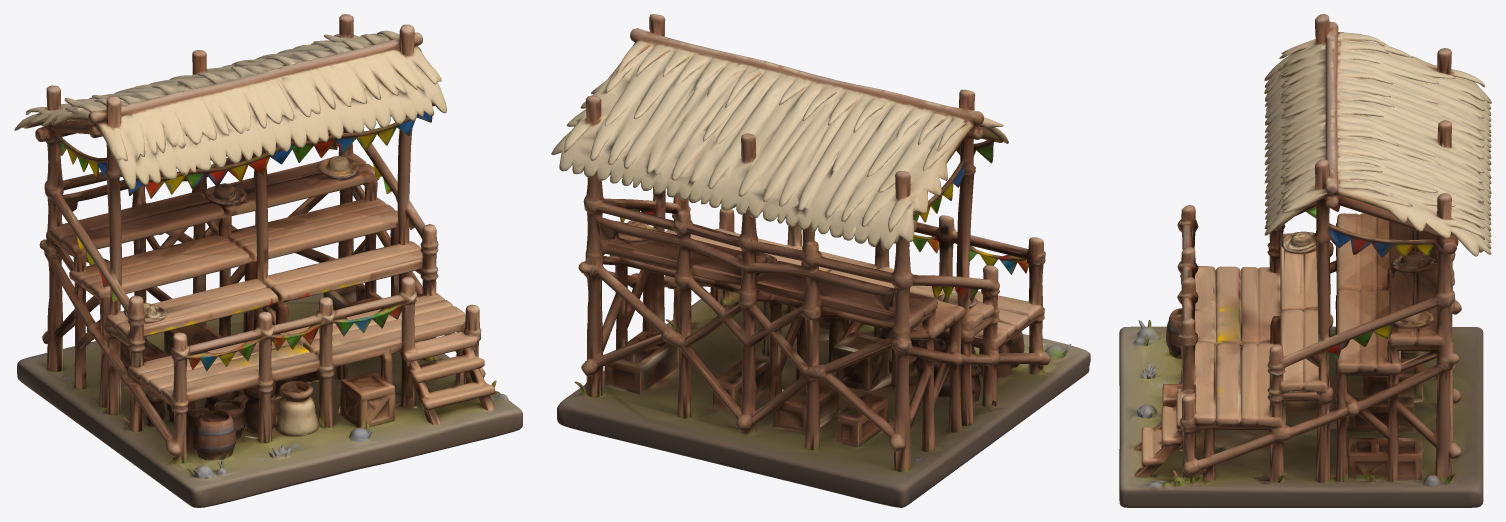
Rendered from Graderia.fbx.
The picture shows the model from 3 angles, left to right: view 1: azimuth 30°, elevation 25°; view 2: azimuth 150°, elevation 25°; view 3: azimuth 270°, elevation 25°; orthographic projection. The views are drawn at different scales.
Parts seen in each view (by area): view 1: Mesh_0; view 2: Mesh_0; view 3: Mesh_0.
Part boxes in pixels (x1,y1,x2,y2): Mesh_0: [14, 14, 522, 507]; Mesh_0: [551, 14, 1090, 507]; Mesh_0: [1119, 14, 1491, 507].
Size of the model in its own units: 74.38 by 69.98 by 69.25.
1 material, 1 textured.
